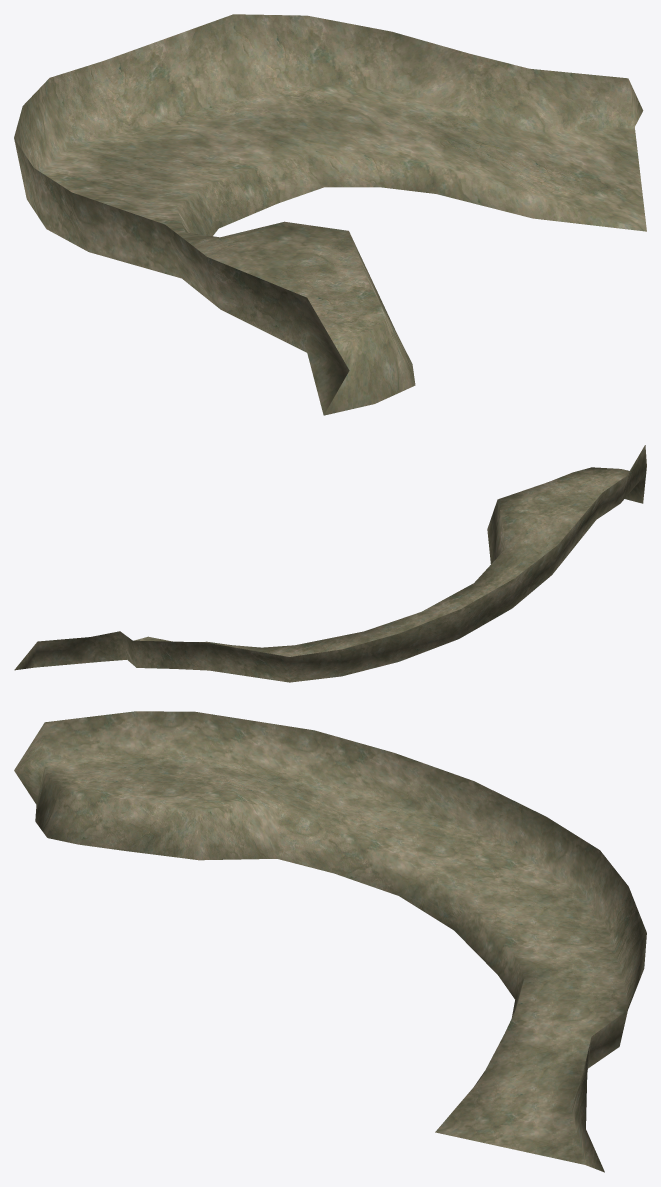
File: EKH_GROTTO_PS_GR_OBJECT05.fbx
3 renders of one model, top to bottom at view 1: azimuth 30°, elevation 25°; view 2: azimuth 150°, elevation 25°; view 3: azimuth 270°, elevation 25°, orthographic. The views are drawn at different scales.
Parts seen in each view (by area): view 1: EKH_GROTTO_PS_GR_OBJECT05; view 2: EKH_GROTTO_PS_GR_OBJECT05; view 3: EKH_GROTTO_PS_GR_OBJECT05.
Part boxes in pixels (<box>): EKH_GROTTO_PS_GR_OBJECT05: <box>14,14,646,415</box>; EKH_GROTTO_PS_GR_OBJECT05: <box>14,445,646,682</box>; EKH_GROTTO_PS_GR_OBJECT05: <box>14,711,646,1172</box>.
Bounding box in the file's own units: 91623 × 33023 × 93859.
Materials: 1 (1 with a texture image).
